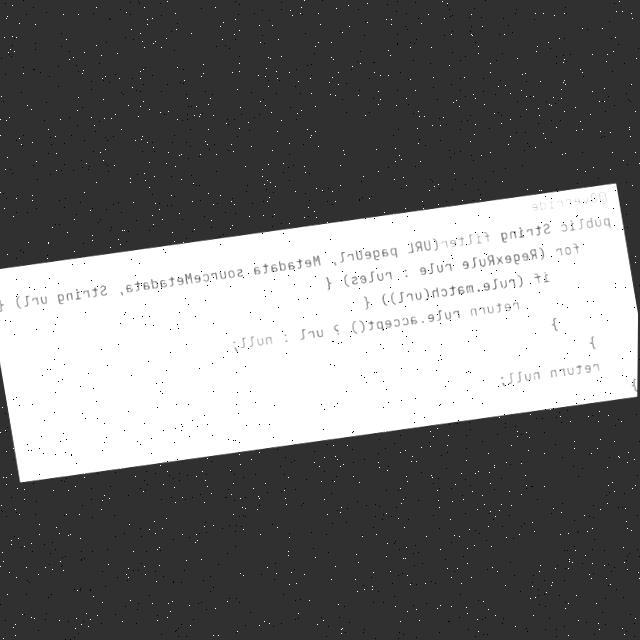code_screen: (0, 183, 638, 480)
